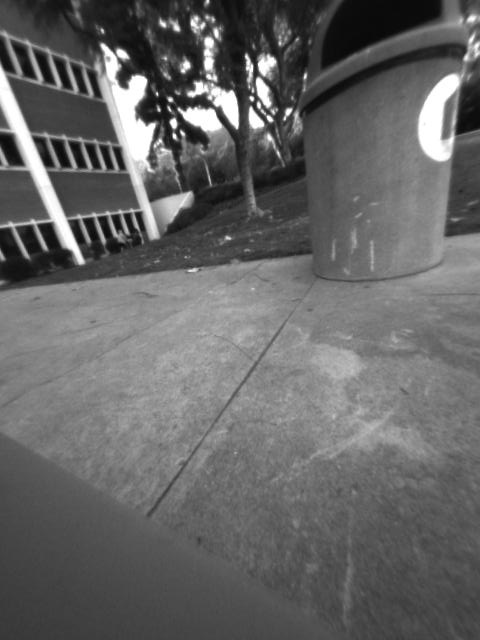trashcan: (297, 1, 474, 280)
